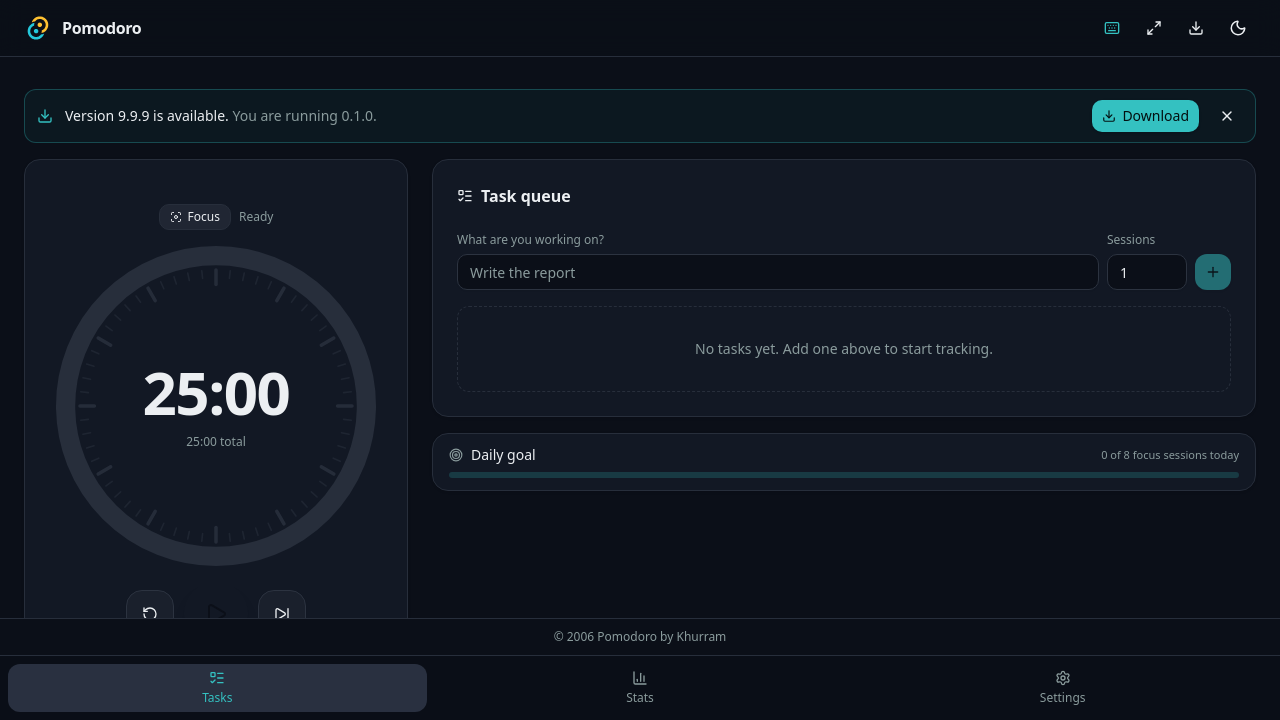
Test: The update notice › can be dismissed, and stays dismissed for that version
Expected: the message "Version 9.9.9 is available. You are running 0.1.0. Download" is shown, [24, 89, 1256, 143]
Click the button named "Dismiss the update notice".
click(1227, 116)  # box [1211, 100, 1243, 132]
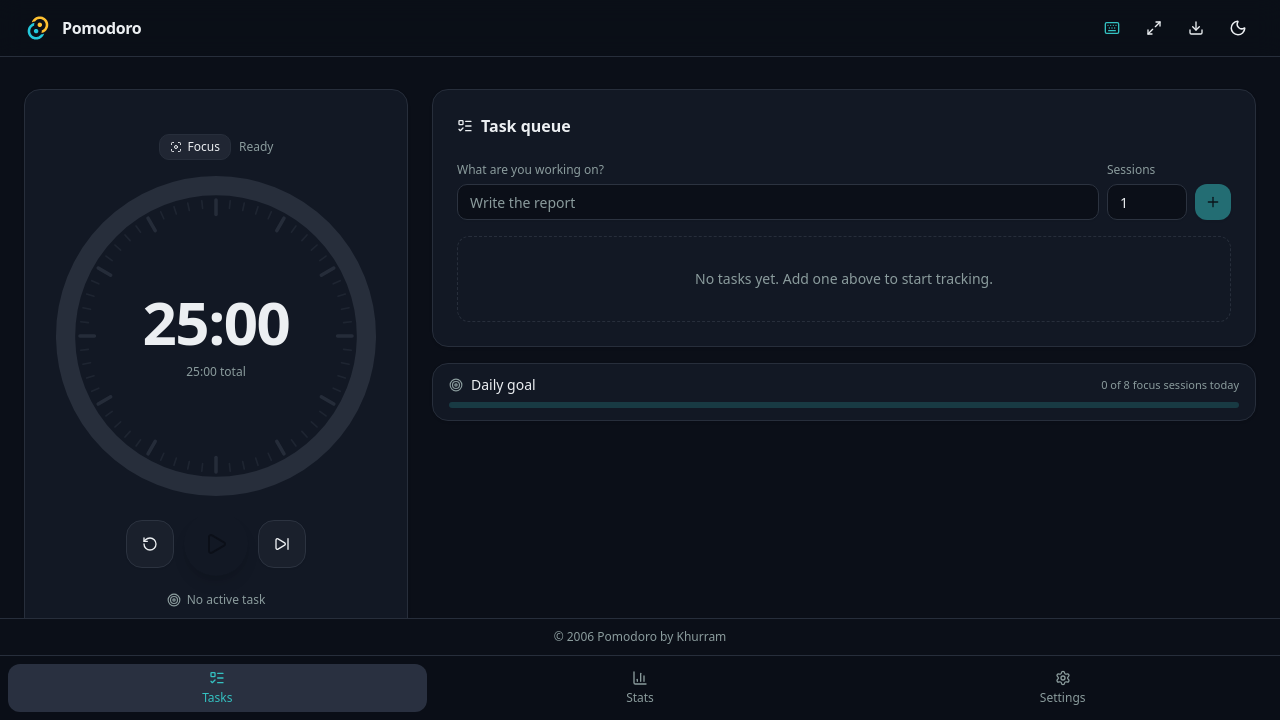
Expected: the message with test id "update-banner" is gone
